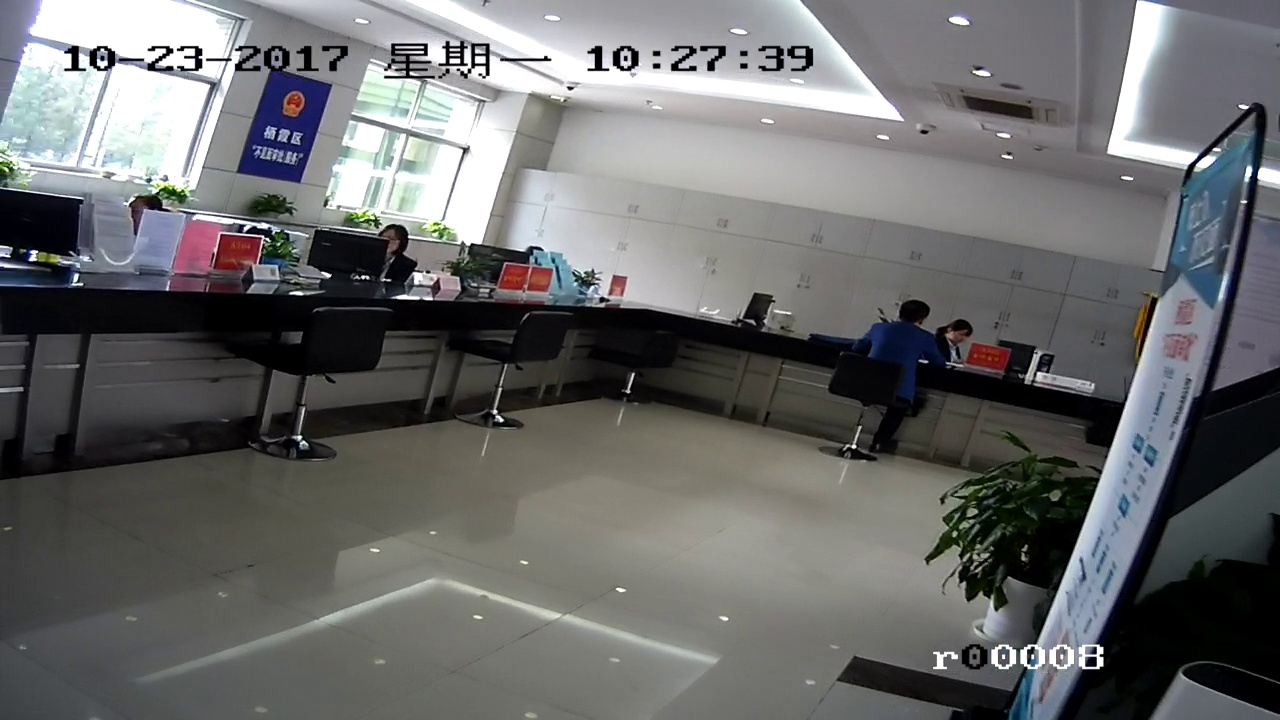billboard: (264, 76, 314, 187), (217, 235, 261, 271)
chair: (238, 308, 383, 460), (460, 306, 566, 446), (589, 328, 687, 422)
monitor: (744, 291, 767, 330)
person: (877, 302, 940, 426), (370, 225, 420, 280), (931, 318, 985, 360)
